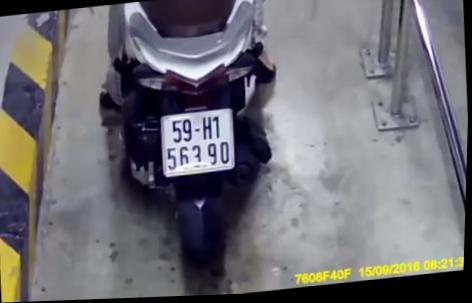LP: (159, 108, 239, 178)
